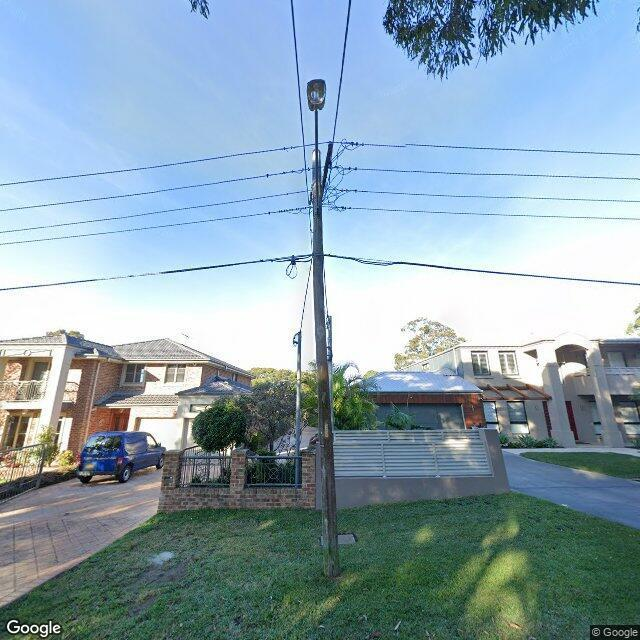crossarm: (319, 142, 335, 208)
streetlight: (307, 78, 326, 209)
timber-pole: (313, 150, 342, 577), (296, 331, 302, 456)
